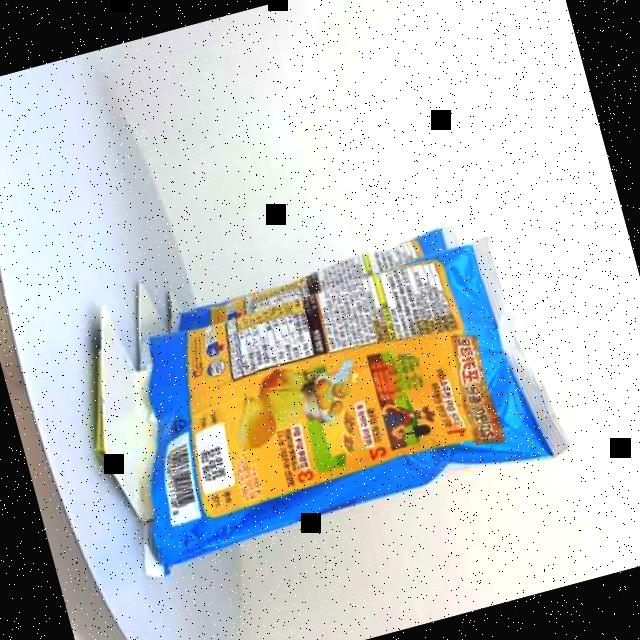snack_bag: (60, 172, 593, 587)
